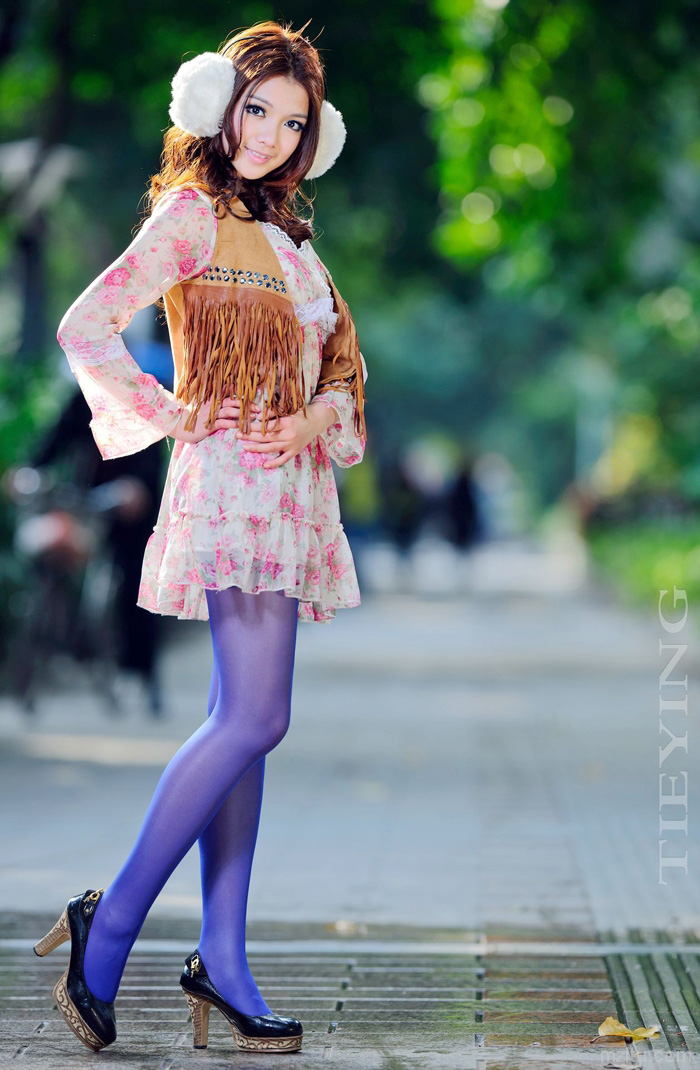women: (26, 18, 372, 1057)
